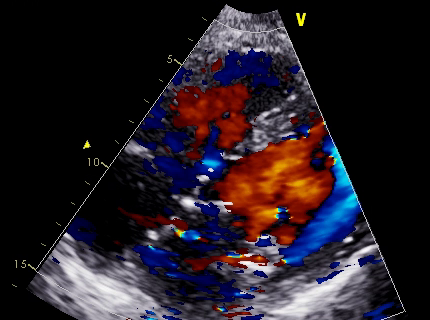TR: (148, 141, 216, 219)
